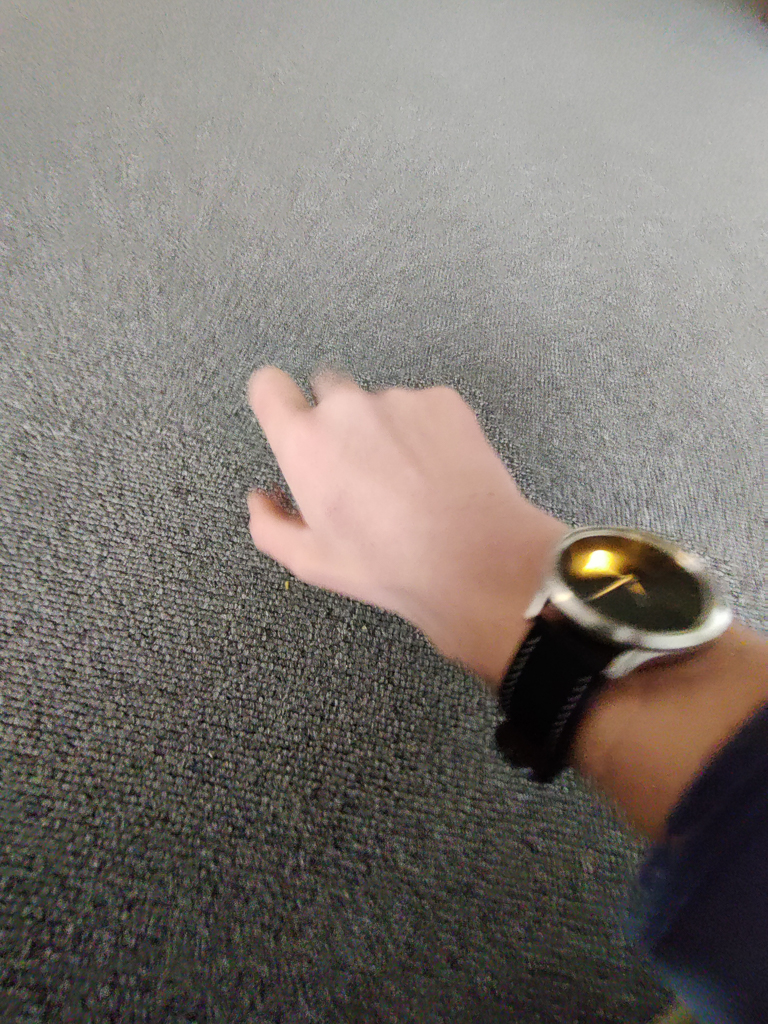Humanoid: (226, 351, 768, 1024)
